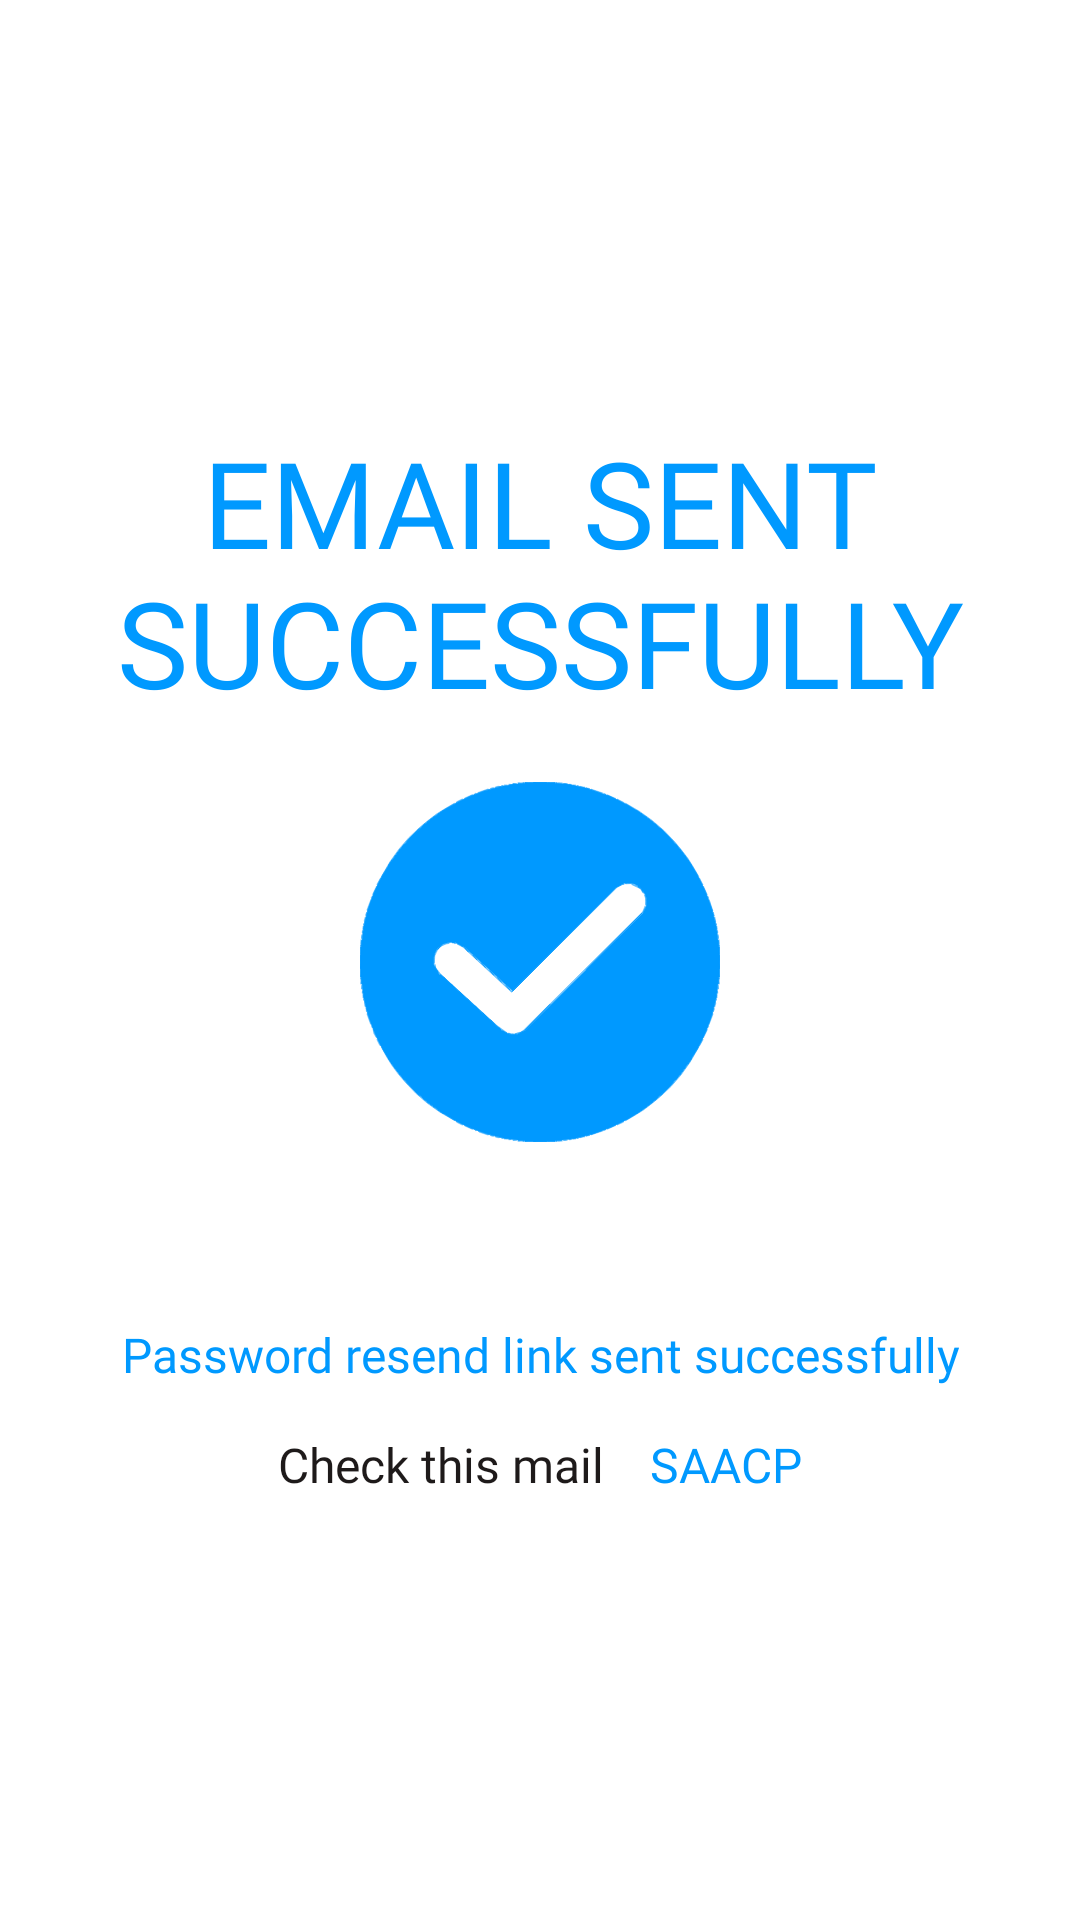

Where to tap for icons on this 1080 × 1920 app screen, as (x=x, y=y):
check mark: (x=540, y=962)
